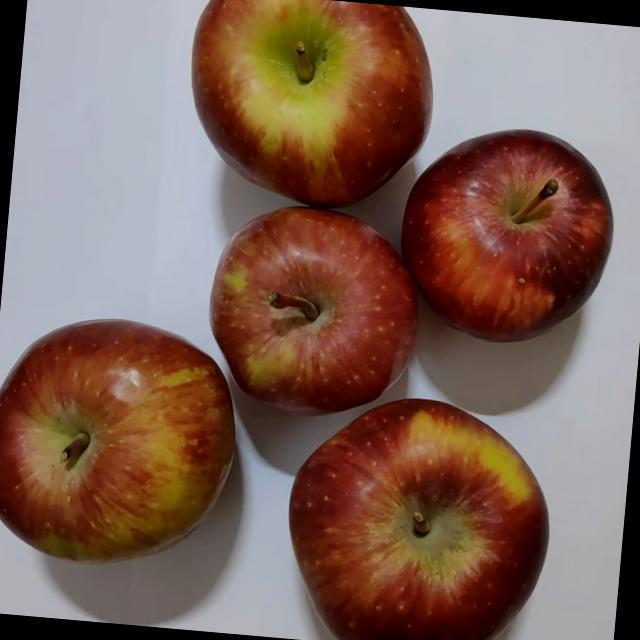apple: (262, 384, 551, 640), (0, 305, 248, 583), (166, 0, 442, 231), (377, 118, 616, 366), (184, 196, 428, 437)
